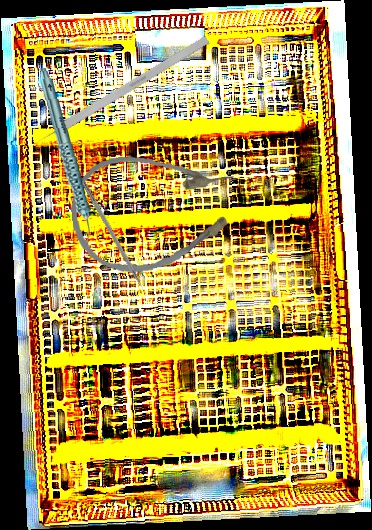Cannula: (66, 145, 243, 279)
Handpiece: (39, 66, 93, 247)
Hook Surgical: (29, 35, 211, 149), (80, 180, 153, 304)
